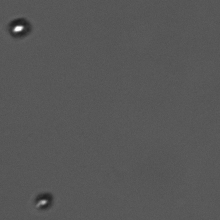Living Cell: (31, 187, 57, 213), (6, 14, 32, 39)
